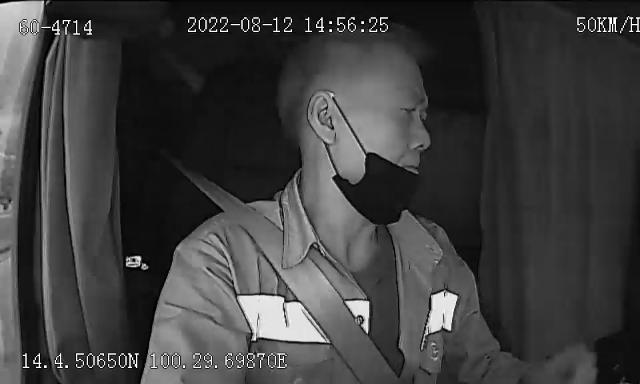Seatbelt: (194, 177, 402, 383)
